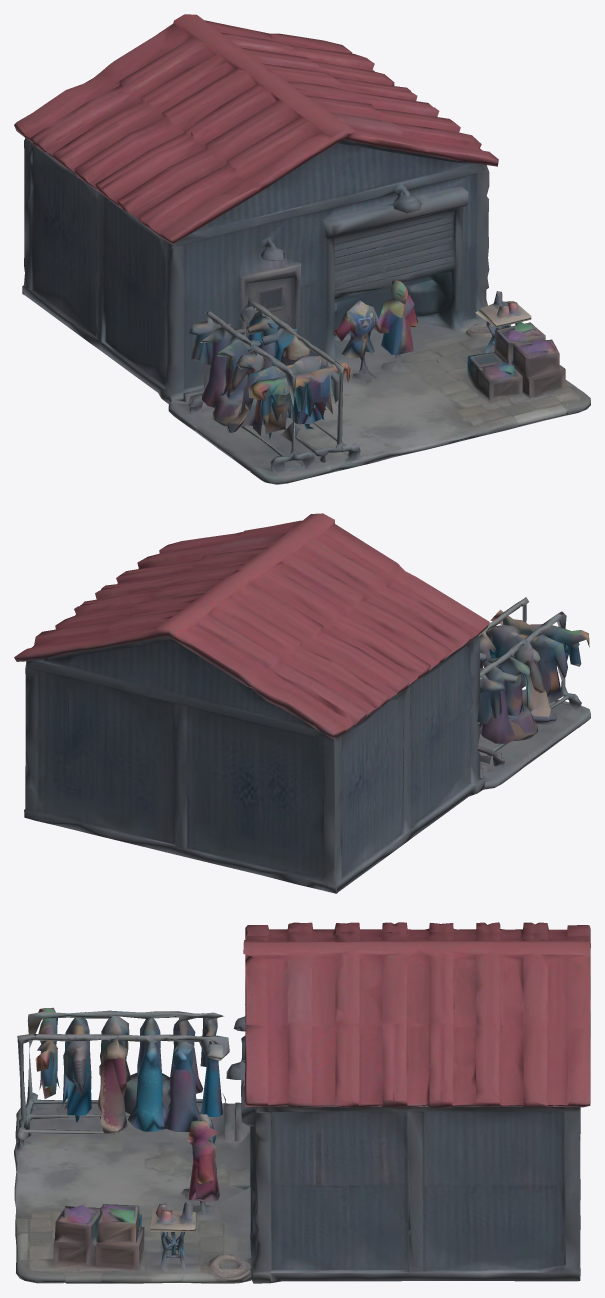
File: carnival_workshop_main.glb
The picture shows the model from 3 angles, top to bottom: view 1: azimuth 30°, elevation 25°; view 2: azimuth 150°, elevation 25°; view 3: azimuth 270°, elevation 25°; orthographic projection. The views are drawn at different scales.
Parts seen in each view (by area): view 1: tripo_node_2faa8572-da61-4f09-b7b8-c0ef05b95c15; view 2: tripo_node_2faa8572-da61-4f09-b7b8-c0ef05b95c15; view 3: tripo_node_2faa8572-da61-4f09-b7b8-c0ef05b95c15.
Part boxes in pixels (x1,y1,x2,y2): tripo_node_2faa8572-da61-4f09-b7b8-c0ef05b95c15: (14, 14, 590, 484); tripo_node_2faa8572-da61-4f09-b7b8-c0ef05b95c15: (14, 513, 590, 893); tripo_node_2faa8572-da61-4f09-b7b8-c0ef05b95c15: (14, 922, 590, 1283).
Bounding box in the file's own units: 0.7498 × 0.4988 × 1.
1 material, 1 textured.
